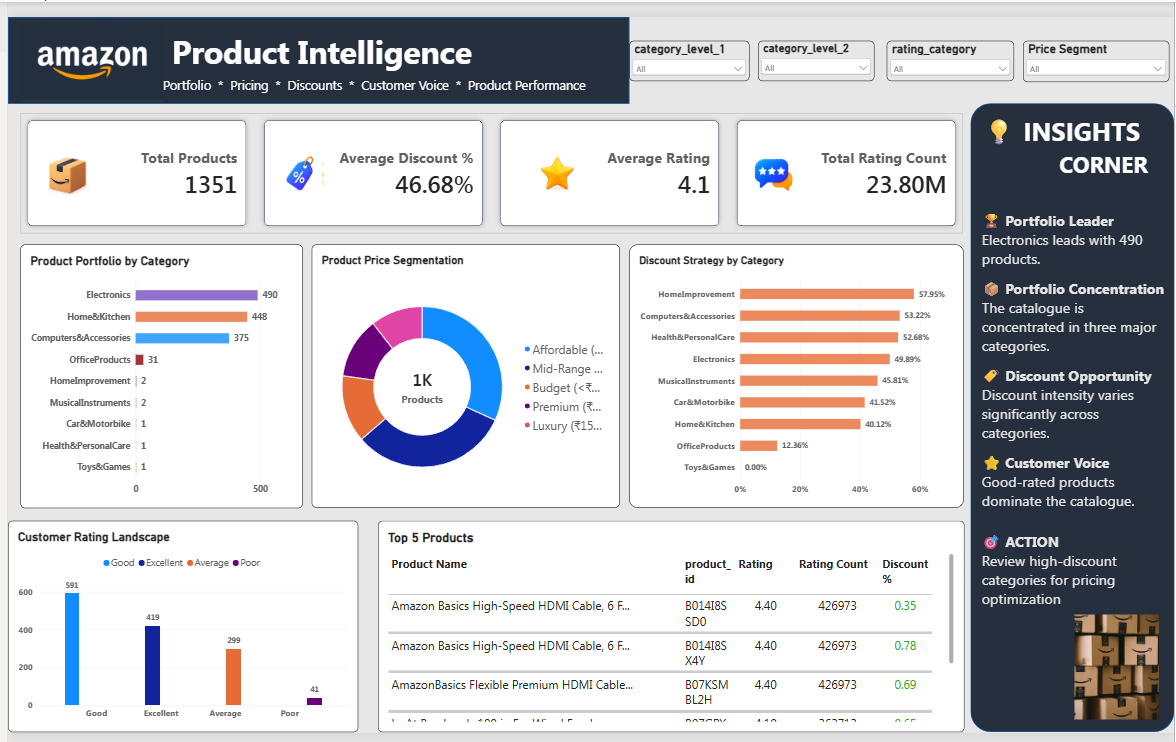

What the dashboard file says about the page in this screenshot:
{"tool":"powerbi","page":{"name":"Page 1","canvas":[1963,1204],"ordinal":0},"visuals":[{"type":"shape","box":[0,0,1046,146],"z":0},{"type":"donutChart","title":"Product Price Segmentation","fields":{"Category":["Products.price_segment"],"Y":["Products.Total Products"]},"box":[511.7,383.3,518.3,443.3],"z":1000},{"type":"shape","box":[1620.4,145.2,343,1058.5],"z":2000},{"type":"textbox","box":[260.9,98.9,715.5,48.4],"z":3000},{"type":"textbox","box":[260,22,546,76],"z":4000},{"type":"slicer","fields":{"Values":["Products.category_level_1"]},"box":[1045.9,40,202,68],"z":5000},{"type":"slicer","fields":{"Values":["Products.Price Segment New"]},"box":[1708.8,40,246.2,69.4],"z":6000},{"type":"slicer","fields":{"Values":["Products.rating_category"]},"box":[1479.4,40,214,68],"z":7000},{"type":"cardVisual","fields":{"Data":["Products.Total Products","Products.Average Discount %","Products.Average Rating","Products.Total Rating Count"]},"box":[21,162,1588.8,202],"z":8000},{"type":"clusteredBarChart","title":"Discount Strategy by Category ","fields":{"Category":["Products.category_level_1"],"Y":["Products.Average Discount %"]},"box":[1046.7,383.3,563.3,443.3],"z":9000},{"type":"clusteredColumnChart","title":"Customer Rating Landscape","fields":{"Category":["Products.rating_category"],"Series":["Products.rating_category"],"Y":["Products.Total Products"]},"box":[0,848.1,589.2,355.6],"z":10000},{"type":"tableEx","title":"Top 5 Products","fields":{"Values":["Products.Product Display Name","Products.product_id","Sum(Products.rating)","Products.Total Rating Count","Sum(Products.discount_percentage)"]},"box":[622.9,848.1,987,355.6],"z":11000},{"type":"image","box":[1769.8,1005.9,193.6,176.8],"z":12000},{"type":"image","box":[20,0,240,148],"z":13000},{"type":"slicer","fields":{"Values":["Products.category_level_2"]},"box":[1262.7,40,196,68],"z":14000},{"type":"textbox","box":[1639.3,162,315.7,61],"z":15000},{"type":"textbox","box":[1769.8,223.1,168.4,61],"z":16000},{"type":"clusteredBarChart","title":"Product Portfolio by Category","fields":{"Category":["Products.category_level_1"],"Y":["Products.Total Products"]},"box":[21,383,475.6,444],"z":17000},{"type":"image","box":[44.2,218.9,113.6,94.7],"z":18000},{"type":"image","box":[875.4,218.9,101,86.3],"z":19000},{"type":"image","box":[435.6,218.9,124.2,80],"z":20000},{"type":"image","box":[1222.7,218.9,138.9,86.3],"z":22000},{"type":"textbox","box":[1639.3,326.2,315.7,745],"z":23000}]}

Visuals, with their boxes in screenshot pixels (x1, y1, x2, y2), scaled from the page's 1963x1204 canvas onto the 1176x742 screenshot:
shape: (0,0,627,90)
"Product Price Segmentation" donutChart: (307,236,617,509)
shape: (971,89,1175,741)
textbox: (156,61,585,91)
textbox: (156,14,483,60)
slicer - Products.category_level_1: (627,25,748,67)
slicer - Products.Price Segment New: (1024,25,1171,67)
slicer - Products.rating_category: (886,25,1014,67)
cardVisual - Products.Total Products x Products.Average Discount %: (13,100,964,224)
"Discount Strategy by Category " clusteredBarChart: (627,236,965,509)
"Customer Rating Landscape" clusteredColumnChart: (0,523,353,741)
"Top 5 Products" tableEx: (373,523,964,741)
image: (1060,620,1175,729)
image: (12,0,156,91)
slicer - Products.category_level_2: (756,25,874,67)
textbox: (982,100,1171,137)
textbox: (1060,137,1161,175)
"Product Portfolio by Category" clusteredBarChart: (13,236,298,510)
image: (26,135,95,193)
image: (524,135,585,188)
image: (261,135,335,184)
image: (732,135,816,188)
textbox: (982,201,1171,660)
